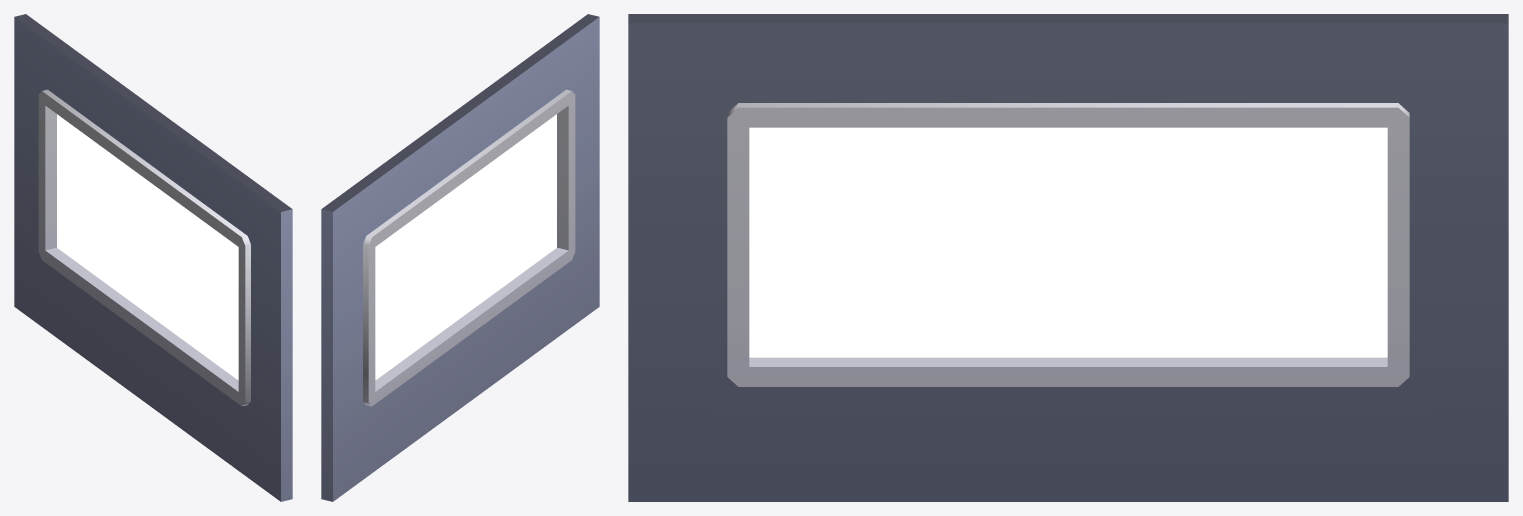
Rendered from kenney-building-wall-window-wide-square.glb.
3 renders of one model, left to right at view 1: azimuth 30°, elevation 25°; view 2: azimuth 150°, elevation 25°; view 3: azimuth 270°, elevation 25°, orthographic. The views are drawn at different scales.
Parts seen in each view (by area): view 1: wall-window-wide-square, (%ignore); view 2: wall-window-wide-square, (%ignore); view 3: wall-window-wide-square, (%ignore).
Boxes of the visible parts, <box> form: wall-window-wide-square: <box>14,14,292,501</box>; (%ignore): <box>57,114,238,380</box>; wall-window-wide-square: <box>321,14,599,501</box>; (%ignore): <box>375,114,556,380</box>; wall-window-wide-square: <box>628,14,1508,501</box>; (%ignore): <box>749,127,1387,357</box>.
Size of the model in its own units: 0.2002 by 2.4 by 4.
2 materials, 1 textured.
